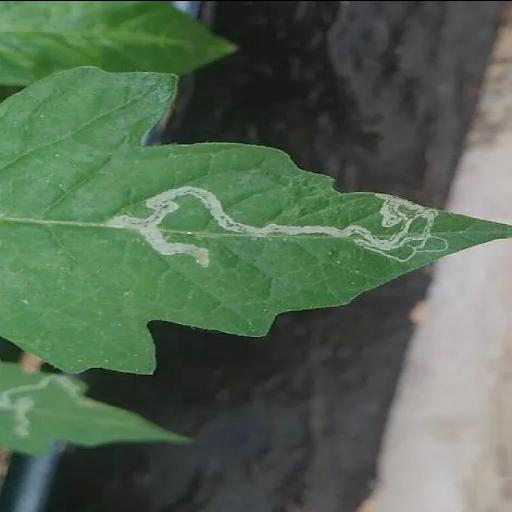disease_tomato: (0, 64, 512, 372)
